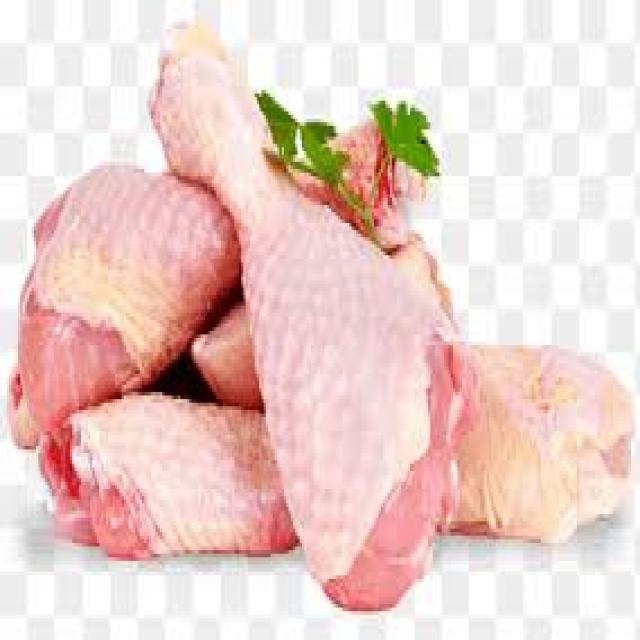chicken: (151, 58, 460, 609), (11, 169, 241, 437), (72, 396, 297, 559)
